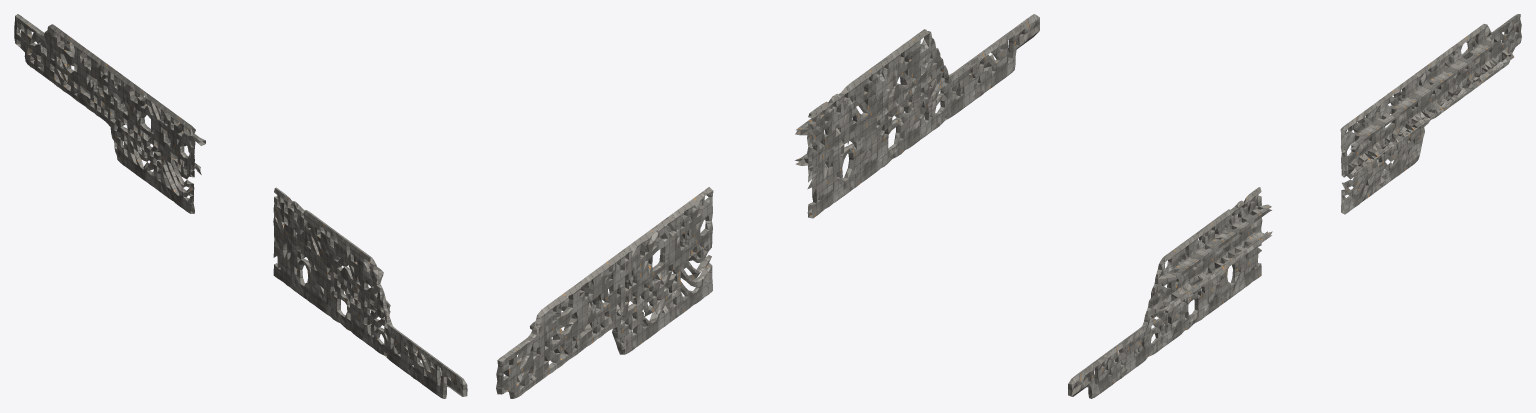
The model's file is NaveBrazos.obj.
The picture shows the model from 3 angles, left to right: view 1: azimuth 30°, elevation 25°; view 2: azimuth 150°, elevation 25°; view 3: azimuth 330°, elevation 25°; orthographic projection. The views are drawn at different scales.
Visible parts, largest first — view 1: NaveBrazos; view 2: NaveBrazos; view 3: NaveBrazos.
Part boxes in pixels (bbox=[...]): NaveBrazos: bbox=[14, 14, 467, 398]; NaveBrazos: bbox=[496, 14, 1039, 398]; NaveBrazos: bbox=[1068, 14, 1521, 398].
Size of the model in its own units: 2.98 by 16.05 by 148.
